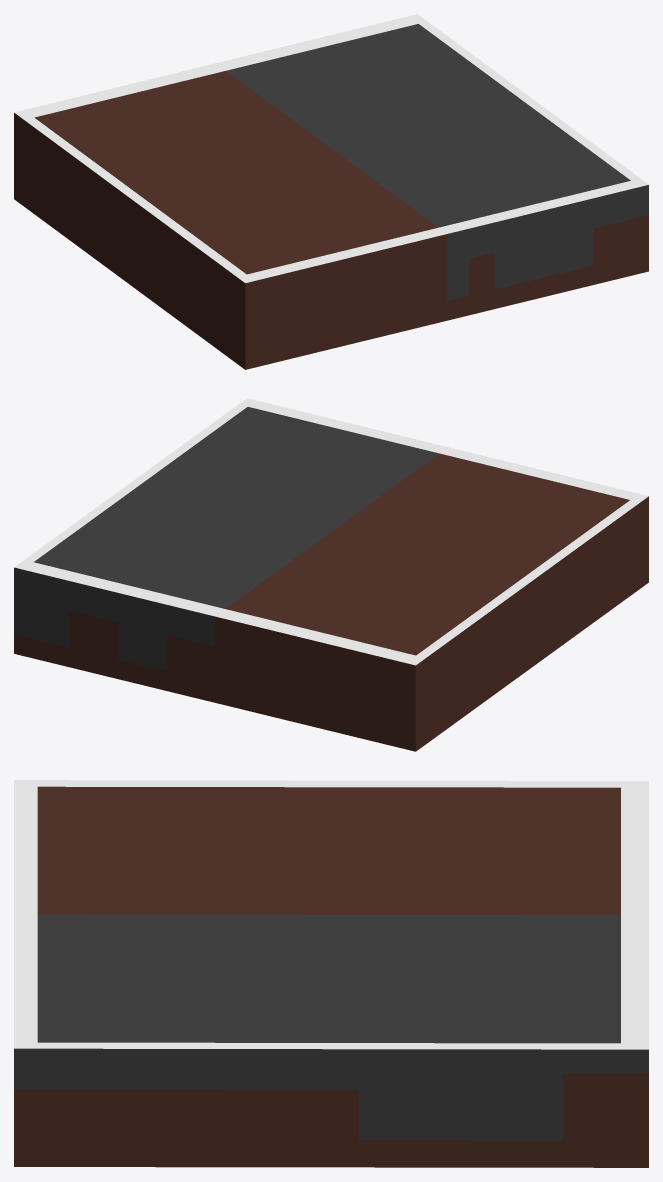
File: Soil-Stone.fbx
The picture shows the model from 3 angles, top to bottom: view 1: azimuth 30°, elevation 25°; view 2: azimuth 150°, elevation 25°; view 3: azimuth 270°, elevation 25°; orthographic projection. The views are drawn at different scales.
Visible parts, largest first — view 1: Soil-Stone.001; view 2: Soil-Stone.001; view 3: Soil-Stone.001.
Part boxes in pixels (box(x1,y1,x2,y2)): Soil-Stone.001: box(14, 14, 648, 369); Soil-Stone.001: box(14, 398, 648, 751); Soil-Stone.001: box(14, 780, 648, 1167).
Size of the model in its own units: 98.75 by 20.2 by 98.31.
